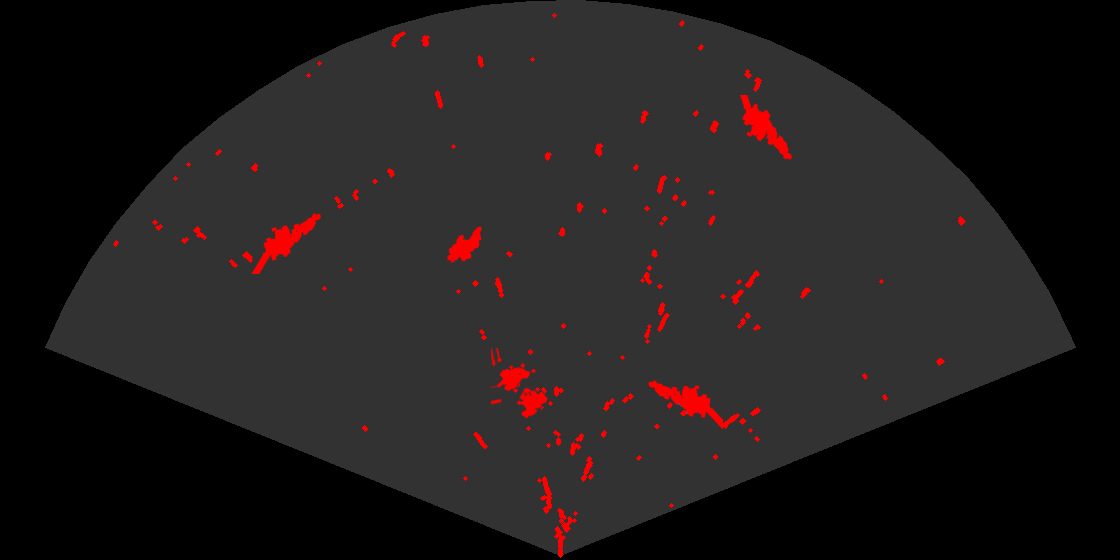AUV: (445, 225, 483, 264)
cage: (491, 348, 549, 420)
frogman: (250, 212, 323, 274), (647, 379, 723, 431), (739, 95, 794, 161)
